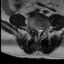CCS_normal: (37, 27, 39, 38)
LFS_severe_stenosis: (42, 27, 44, 33)
LLS_normal: (39, 28, 42, 34)
RFS_severe_stenosis: (32, 25, 35, 32)
RLS_severe_stenosis: (35, 27, 37, 33)
